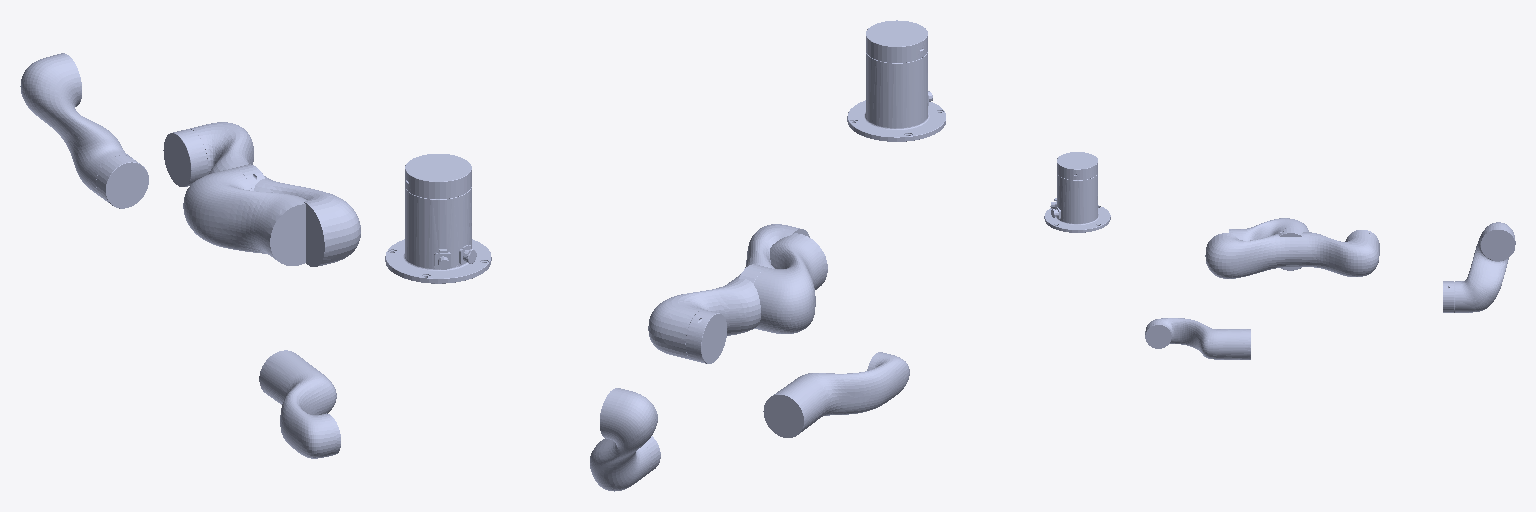
The robot description file, URDF, robot "arm2.0":
<?xml version="1.0" encoding="utf-8"?>
<!-- This URDF was automatically created by SolidWorks to URDF Exporter! Originally created by [author] ([email redacted]) 
     Commit Version: 1.6.0-4-g7f85cfe  Build Version: 1.6.7995.38578
     For more information, please see http://wiki.ros.org/sw_urdf_exporter -->
<robot
  name="arm2.0">
  <link
    name="base_link">
    <inertial>
      <origin
        xyz="-0.0052782 0.42344 -0.040273"
        rpy="0 0 0" />
      <mass
        value="13.134" />
      <inertia
        ixx="0.12169"
        ixy="0.0033159"
        ixz="0.0033397"
        iyy="0.032208"
        iyz="-0.003345"
        izz="0.1213" />
    </inertial>
    <visual>
      <origin
        xyz="0 0 0"
        rpy="0 0 0" />
      <geometry>
        <mesh
          filename="package://arm_urdf/meshes/base_link.STL" />
      </geometry>
      <material
        name="">
        <color
          rgba="0.79216 0.81961 0.93333 1" />
      </material>
    </visual>
    <collision>
      <origin
        xyz="0 0 0"
        rpy="0 0 0" />
      <geometry>
        <mesh
          filename="package://arm_urdf/meshes/base_link.STL" />
      </geometry>
    </collision>
  </link>
  <link
    name="Link1">
    <inertial>
      <origin
        xyz="-0.0341557930468127 0.122616971089813 -1.27924045786876E-07"
        rpy="0 0 0" />
      <mass
        value="2.58255268807088" />
      <inertia
        ixx="0.0130139121861334"
        ixy="0.00405232491310445"
        ixz="-4.28450891574271E-08"
        iyy="0.00580947647637596"
        iyz="-7.10598430705665E-07"
        izz="0.0142006453008754" />
    </inertial>
    <visual>
      <origin
        xyz="0 0 0"
        rpy="0 0 0" />
      <geometry>
        <mesh
          filename="package://arm_urdf/meshes/Link1.STL" />
      </geometry>
      <material
        name="">
        <color
          rgba="0.792156862745098 0.819607843137255 0.933333333333333 1" />
      </material>
    </visual>
    <collision>
      <origin
        xyz="0 0 0"
        rpy="0 0 0" />
      <geometry>
        <mesh
          filename="package://arm_urdf/meshes/Link1.STL" />
      </geometry>
    </collision>
  </link>
  <joint
    name="j1"
    type="revolute">
    <origin
      xyz="0 0.1845 0"
      rpy="0 0 0" />
    <parent
      link="base_link" />
    <child
      link="Link1" />
    <axis
      xyz="0 -1 0" />
    <limit
      lower="-3.14159"
      upper="3.14159"
      effort="100"
      velocity="2.0" />
  </joint>
  <link
    name="Link2">
    <inertial>
      <origin
        xyz="0.032479 0.20308 -6.2014E-05"
        rpy="0 0 0" />
      <mass
        value="3.926" />
      <inertia
        ixx="0.079554"
        ixy="0.0017335"
        ixz="3.1679E-06"
        iyy="0.0069392"
        iyz="-2.3436E-05"
        izz="0.081061" />
    </inertial>
    <visual>
      <origin
        xyz="0 0 0"
        rpy="0 0 0" />
      <geometry>
        <mesh
          filename="package://arm_urdf/meshes/Link2.STL" />
      </geometry>
      <material
        name="">
        <color
          rgba="0.79216 0.81961 0.93333 1" />
      </material>
    </visual>
    <collision>
      <origin
        xyz="0 0 0"
        rpy="0 0 0" />
      <geometry>
        <mesh
          filename="package://arm_urdf/meshes/Link2.STL" />
      </geometry>
    </collision>
  </link>
  <joint
    name="j2"
    type="revolute">
    <origin
      xyz="-0.000250000000000007 0.1785 0"
      rpy="0 0 0" />
    <parent
      link="Link1" />
    <child
      link="Link2" />
    <axis
      xyz="1 0 0" />
    <limit
      lower="-3.14159"
      upper="3.14159"
      effort="100"
      velocity="2.0" />
  </joint>
  <link
    name="Link3">
    <inertial>
      <origin
        xyz="-0.0291986987675039 -0.0483462747273982 -0.0863422706938064"
        rpy="0 0 0" />
      <mass
        value="1.93910828514451" />
      <inertia
        ixx="0.0107111547199636"
        ixy="0.0016483172358137"
        ixz="0.00333306856931167"
        iyy="0.0103103781174519"
        iyz="-0.00336693383921128"
        izz="0.00560839682066395" />
    </inertial>
    <visual>
      <origin
        xyz="0 0 0"
        rpy="0 0 0" />
      <geometry>
        <mesh
          filename="package://arm_urdf/meshes/Link3.STL" />
      </geometry>
      <material
        name="">
        <color
          rgba="0.792156862745098 0.819607843137255 0.933333333333333 1" />
      </material>
    </visual>
    <collision>
      <origin
        xyz="0 0 0"
        rpy="0 0 0" />
      <geometry>
        <mesh
          filename="package://arm_urdf/meshes/Link3.STL" />
      </geometry>
    </collision>
  </link>
  <joint
    name="j3"
    type="revolute">
    <origin
      xyz="0 0.389999999999999 0"
      rpy="0 0 0" />
    <parent
      link="Link2" />
    <child
      link="Link3" />
    <axis
      xyz="-1 0 0" />
    <limit
      lower="-3.14159"
      upper="3.14159"
      effort="100"
      velocity="2.0" />
  </joint>
  <link
    name="Link4">
    <inertial>
      <origin
        xyz="-0.0319603196677878 -0.130326564223853 -3.1956051910198E-07"
        rpy="0 0 0" />
      <mass
        value="1.48564830223244" />
      <inertia
        ixx="0.0105102634532792"
        ixy="-0.00410287807559147"
        ixz="1.92797036805706E-08"
        iyy="0.00335669837032608"
        iyz="5.33092635492305E-08"
        izz="0.0125216631987523" />
    </inertial>
    <visual>
      <origin
        xyz="0 0 0"
        rpy="0 0 0" />
      <geometry>
        <mesh
          filename="package://arm_urdf/meshes/Link4.STL" />
      </geometry>
      <material
        name="">
        <color
          rgba="0.792156862745098 0.819607843137255 0.933333333333333 1" />
      </material>
    </visual>
    <collision>
      <origin
        xyz="0 0 0"
        rpy="0 0 0" />
      <geometry>
        <mesh
          filename="package://arm_urdf/meshes/Link4.STL" />
      </geometry>
    </collision>
  </link>
  <joint
    name="j4"
    type="revolute">
    <origin
      xyz="0.000250000000000423 -0.159242809429263 -0.149976330526953"
      rpy="0 0 0" />
    <parent
      link="Link3" />
    <child
      link="Link4" />
    <axis
      xyz="0 -1 0" />
    <limit
      lower="-3.14159"
      upper="3.14159"
      effort="100"
      velocity="2.0" />
  </joint>
  <link
    name="Link5">
    <inertial>
      <origin
        xyz="-0.00390855102788603 0.0050554928508631 4.67688145711076E-08"
        rpy="0 0 0" />
      <mass
        value="0.789456345932932" />
      <inertia
        ixx="0.00139383729966315"
        ixy="-1.46027496755452E-05"
        ixz="2.62607712978393E-09"
        iyy="0.00078077007989036"
        iyz="-7.32441707362034E-10"
        izz="0.00146715996873719" />
    </inertial>
    <visual>
      <origin
        xyz="0 0 0"
        rpy="0 0 0" />
      <geometry>
        <mesh
          filename="package://arm_urdf/meshes/Link5.STL" />
      </geometry>
      <material
        name="">
        <color
          rgba="0.792156862745098 0.819607843137255 0.933333333333333 1" />
      </material>
    </visual>
    <collision>
      <origin
        xyz="0 0 0"
        rpy="0 0 0" />
      <geometry>
        <mesh
          filename="package://arm_urdf/meshes/Link5.STL" />
      </geometry>
    </collision>
  </link>
  <joint
    name="j5"
    type="revolute">
    <origin
      xyz="0 -0.2665 0"
      rpy="0 0 0" />
    <parent
      link="Link4" />
    <child
      link="Link5" />
    <axis
      xyz="-1 0 0" />
    <limit
      lower="-3.14159"
      upper="3.14159"
      effort="100"
      velocity="2.0" />
  </joint>
  <link
    name="Link6">
    <inertial>
      <origin
        xyz="0.000639113652415819 0.0107736134383868 4.70014921391537E-05"
        rpy="0 0 0" />
      <mass
        value="0.141894854238648" />
      <inertia
        ixx="7.00623194753971E-05"
        ixy="2.98477825869023E-08"
        ixz="2.7709265395048E-07"
        iyy="0.000120209877277034"
        iyz="-8.24265766433737E-09"
        izz="6.76625055908213E-05" />
    </inertial>
    <visual>
      <origin
        xyz="0 0 0"
        rpy="0 0 0" />
      <geometry>
        <mesh
          filename="package://arm_urdf/meshes/Link6.STL" />
      </geometry>
      <material
        name="">
        <color
          rgba="0.792156862745098 0.819607843137255 0.933333333333333 1" />
      </material>
    </visual>
    <collision>
      <origin
        xyz="0 0 0"
        rpy="0 0 0" />
      <geometry>
        <mesh
          filename="package://arm_urdf/meshes/Link6.STL" />
      </geometry>
    </collision>
  </link>
  <joint
    name="j6"
    type="revolute">
    <origin
      xyz="-0.000250000000446747 -0.0839999999999992 0"
      rpy="0 0 0" />
    <parent
      link="Link5" />
    <child
      link="Link6" />
    <axis
      xyz="0 -1 0" />
    <limit
      lower="-3.14159"
      upper="3.14159"
      effort="100"
      velocity="2.0" />
  </joint>
</robot>

--- Render facts (derived) ---
The picture shows the robot from 3 angles, left to right: view 1: azimuth 30°, elevation 25°; view 2: azimuth 150°, elevation 25°; view 3: azimuth 270°, elevation 25°; orthographic projection.
Model arm2.0 with 7 links and 6 joints (6 revolute), rooted at base_link, posed all joints at 0.
Links seen in each view (by area): view 1: base_link, Link1, Link2, Link3, Link4; view 2: base_link, Link2, Link4, Link1, Link3; view 3: Link2, base_link, Link3, Link4, Link1.
Boxes of the visible links, x1,y1,x2,y2 form: base_link: (385, 154, 491, 283); Link1: (183, 164, 306, 265); Link2: (163, 122, 360, 266); Link3: (20, 53, 148, 208); Link4: (259, 350, 340, 458); base_link: (847, 20, 945, 141); Link2: (648, 224, 809, 363); Link4: (763, 352, 909, 437); Link1: (739, 233, 827, 333); Link3: (590, 388, 660, 491); Link2: (1205, 230, 1379, 278); base_link: (1044, 152, 1110, 232); Link3: (1443, 222, 1515, 312); Link4: (1145, 318, 1250, 359); Link1: (1229, 218, 1308, 270).
Size in the robot's own frame: 0.2579 by 1.35 by 0.6447 metres.
5 mesh visuals loaded from 7 distinct referenced files (5 binary STL); not drawn: 2 (reference not matched to a file when rendering).